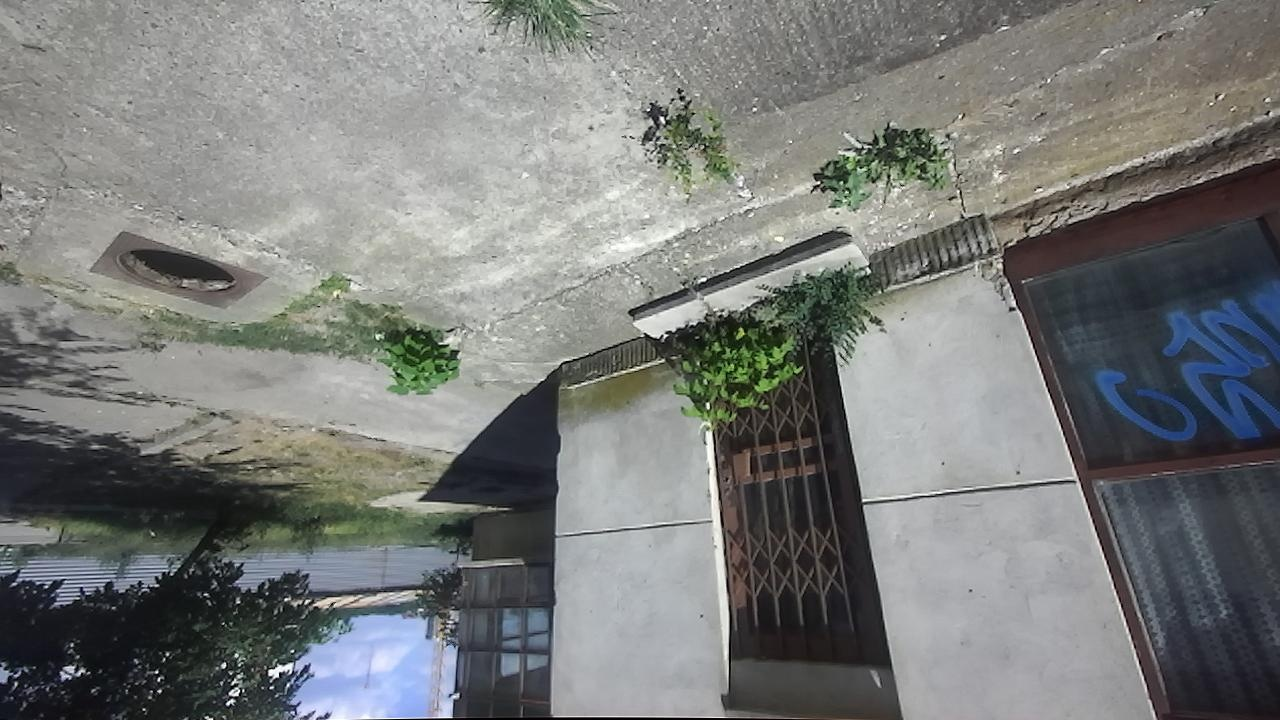drain: (110, 245, 255, 298)
